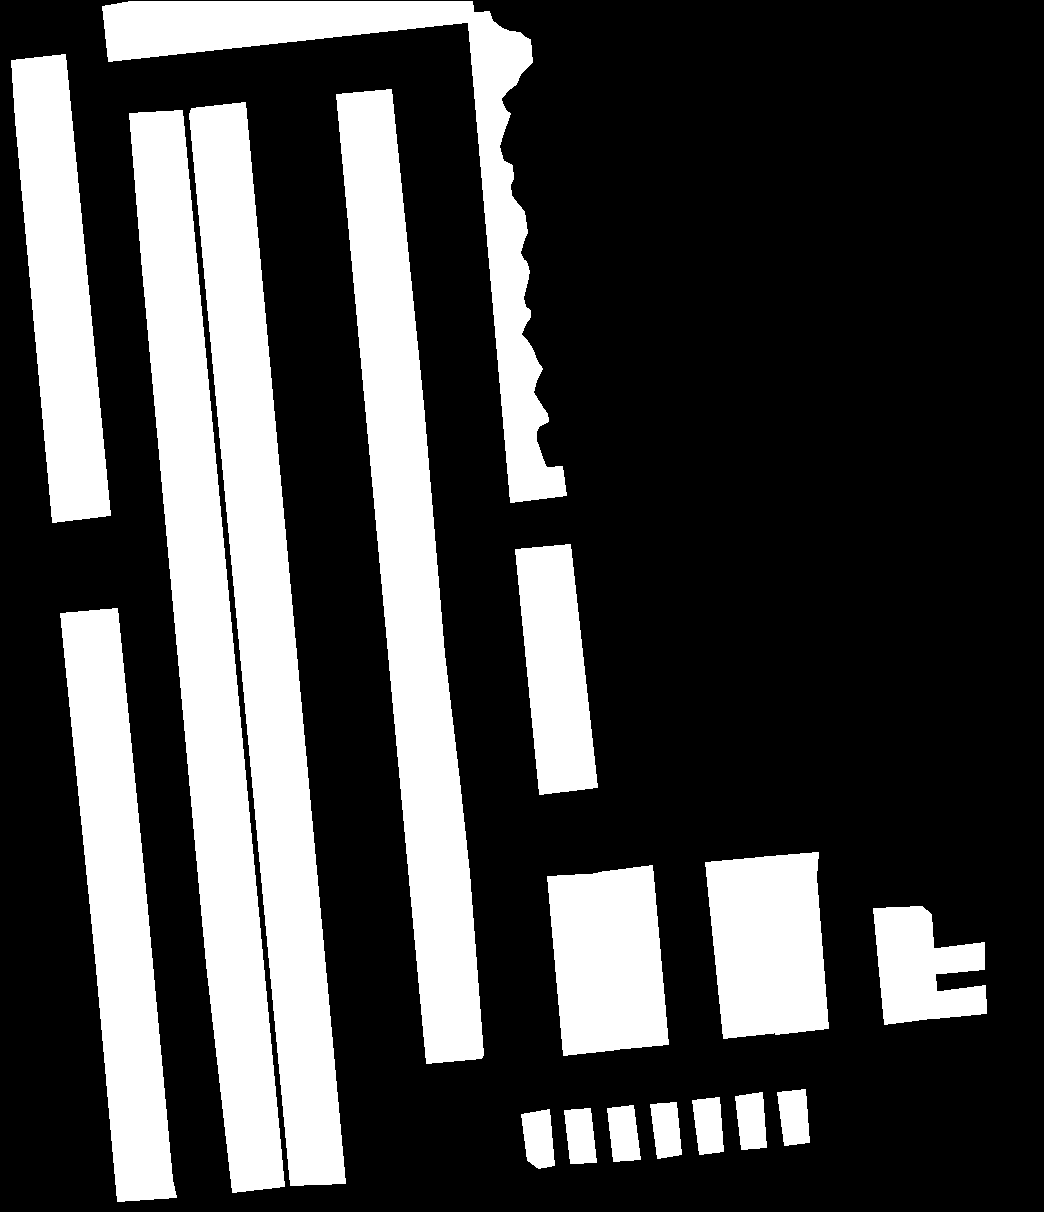parkingspot: (189, 102, 345, 1185), (129, 110, 284, 1192), (336, 89, 483, 1063), (60, 608, 176, 1201), (467, 11, 566, 502), (11, 54, 110, 521), (102, 1, 475, 61), (515, 544, 597, 794), (705, 857, 778, 1038), (547, 873, 618, 1055), (598, 865, 668, 1049), (757, 852, 828, 1034), (873, 906, 938, 1024), (521, 1109, 554, 1168), (607, 1105, 640, 1161), (692, 1097, 723, 1154), (932, 985, 986, 1018), (777, 1089, 809, 1145), (929, 942, 984, 974), (650, 1102, 681, 1158), (735, 1092, 766, 1149), (564, 1108, 596, 1163)
